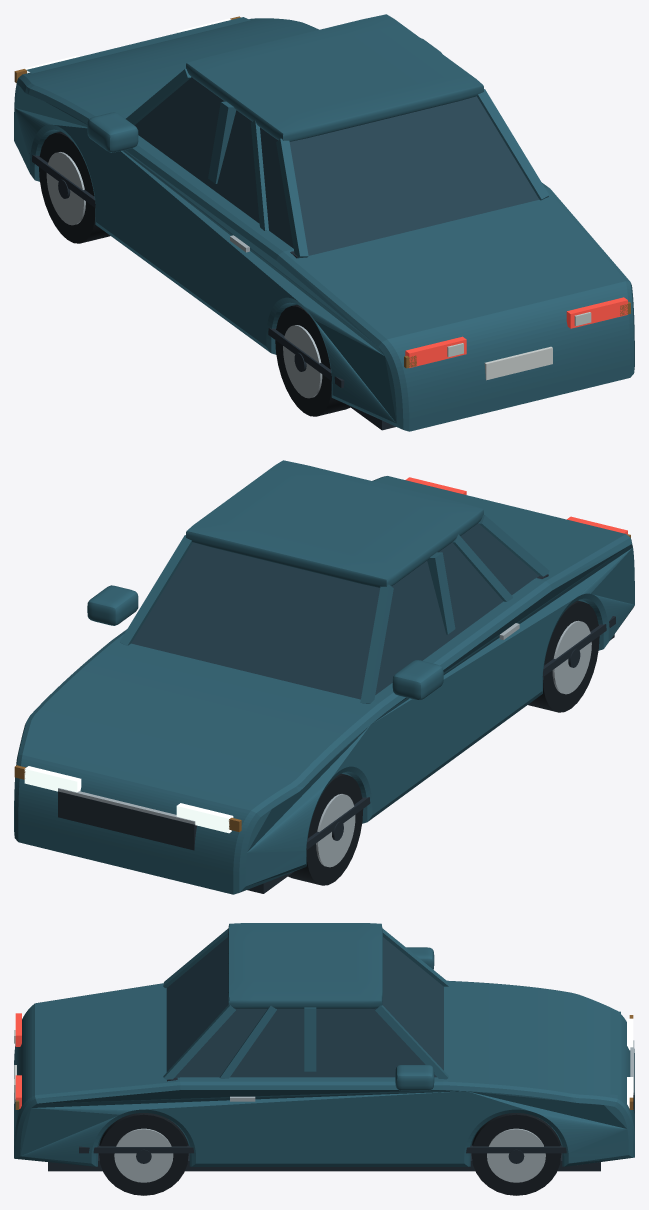
Rendered from sedan-exterior.glb.
3 renders of one model, top to bottom at view 1: azimuth 30°, elevation 25°; view 2: azimuth 150°, elevation 25°; view 3: azimuth 270°, elevation 25°, orthographic. The views are drawn at different scales.
Visible parts, largest first — view 1: finish-body-paint:3302774:0.3:0.42:2, finish-:2704980:0.22:0.2:2, rear-wheel-left, front-wheel-left, finish-:2371642:0.7:0:0, finish-:14278879:0.85:0:0, brake-1, brake--1; view 2: finish-body-paint:3302774:0.3:0.42:2, finish-:2704980:0.22:0.2:2, finish-:2371642:0.7:0:0, front-wheel-left, rear-wheel-left, finish-:15462637:1:0:0, finish-:11451330:0.3:0.7:0; view 3: finish-body-paint:3302774:0.3:0.42:2, finish-:2704980:0.22:0.2:2, front-wheel-right, rear-wheel-right, finish-:2371642:0.7:0:0.
Part boxes in pixels (x1=…): finish-body-paint:3302774:0.3:0.42:2: x1=14, y1=14, x2=634, y2=431; finish-:2704980:0.22:0.2:2: x1=134, y1=77, x2=539, y2=255; rear-wheel-left: x1=275, y1=304, x2=350, y2=416; front-wheel-left: x1=39, y1=131, x2=110, y2=243; finish-:2371642:0.7:0:0: x1=29, y1=153, x2=548, y2=430; finish-:14278879:0.85:0:0: x1=484, y1=346, x2=552, y2=380; brake-1: x1=566, y1=297, x2=627, y2=328; brake--1: x1=405, y1=336, x2=466, y2=367; finish-body-paint:3302774:0.3:0.42:2: x1=14, y1=460, x2=634, y2=894; finish-:2704980:0.22:0.2:2: x1=131, y1=523, x2=538, y2=699; finish-:2371642:0.7:0:0: x1=58, y1=574, x2=615, y2=893; front-wheel-left: x1=288, y1=773, x2=363, y2=885; rear-wheel-left: x1=528, y1=600, x2=599, y2=712; finish-:15462637:1:0:0: x1=24, y1=766, x2=233, y2=833; finish-:11451330:0.3:0.7:0: x1=58, y1=623, x2=519, y2=824; finish-body-paint:3302774:0.3:0.42:2: x1=14, y1=923, x2=634, y2=1166; finish-:2704980:0.22:0.2:2: x1=166, y1=937, x2=443, y2=1077; front-wheel-right: x1=471, y1=1113, x2=561, y2=1195; rear-wheel-right: x1=99, y1=1113, x2=188, y2=1195; finish-:2371642:0.7:0:0: x1=48, y1=1078, x2=634, y2=1171.
Bounding box in the file's own units: 2.17 × 1.43 × 4.4.
